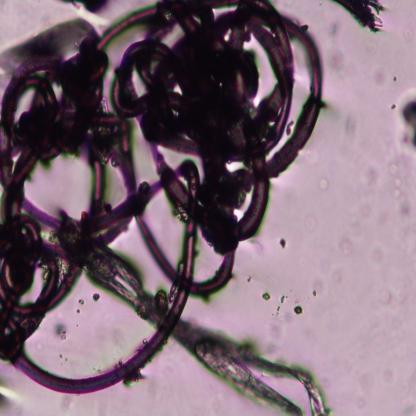Background material: (389, 158, 416, 226), (391, 87, 416, 153), (326, 17, 350, 80), (308, 257, 336, 309), (367, 278, 405, 308), (51, 319, 70, 344), (336, 237, 354, 258), (317, 175, 329, 195), (259, 291, 271, 303), (293, 302, 303, 316), (91, 290, 101, 302), (278, 237, 287, 249)
Cellulose filter fibre: (87, 249, 328, 414)
Microfibre: (0, 0, 382, 395)
